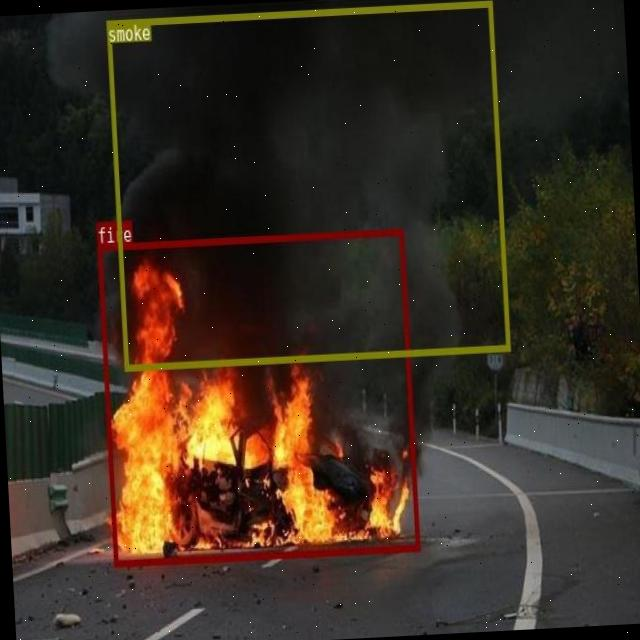fire: (97, 228, 419, 566)
smoke: (106, 1, 510, 370)
